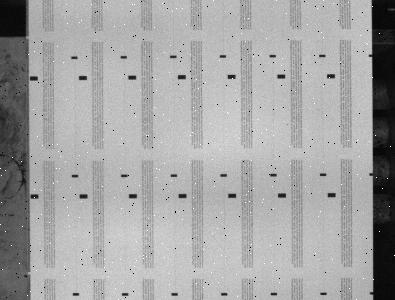backgroundclutter: (24, 274, 28, 278)
incorrect qblock: (370, 292, 374, 295), (369, 173, 373, 176), (369, 54, 373, 57)
qblock: (277, 74, 286, 79), (29, 76, 38, 81), (227, 74, 236, 79), (30, 194, 39, 199), (178, 193, 187, 198), (228, 193, 237, 198), (79, 194, 88, 199), (128, 75, 136, 80), (327, 193, 336, 197), (327, 74, 335, 78), (178, 75, 186, 79), (79, 76, 87, 80), (129, 194, 137, 198), (278, 193, 286, 197)
smallqblock: (270, 173, 277, 177), (120, 55, 127, 59), (269, 54, 276, 58), (221, 292, 228, 296), (122, 292, 129, 296), (319, 173, 327, 176), (171, 293, 178, 296), (71, 174, 78, 177), (220, 174, 227, 177), (71, 56, 78, 59), (320, 292, 327, 295), (121, 174, 128, 177), (170, 55, 177, 58), (270, 292, 277, 295), (72, 293, 79, 296), (220, 55, 226, 58), (171, 174, 177, 177), (319, 54, 325, 57)
